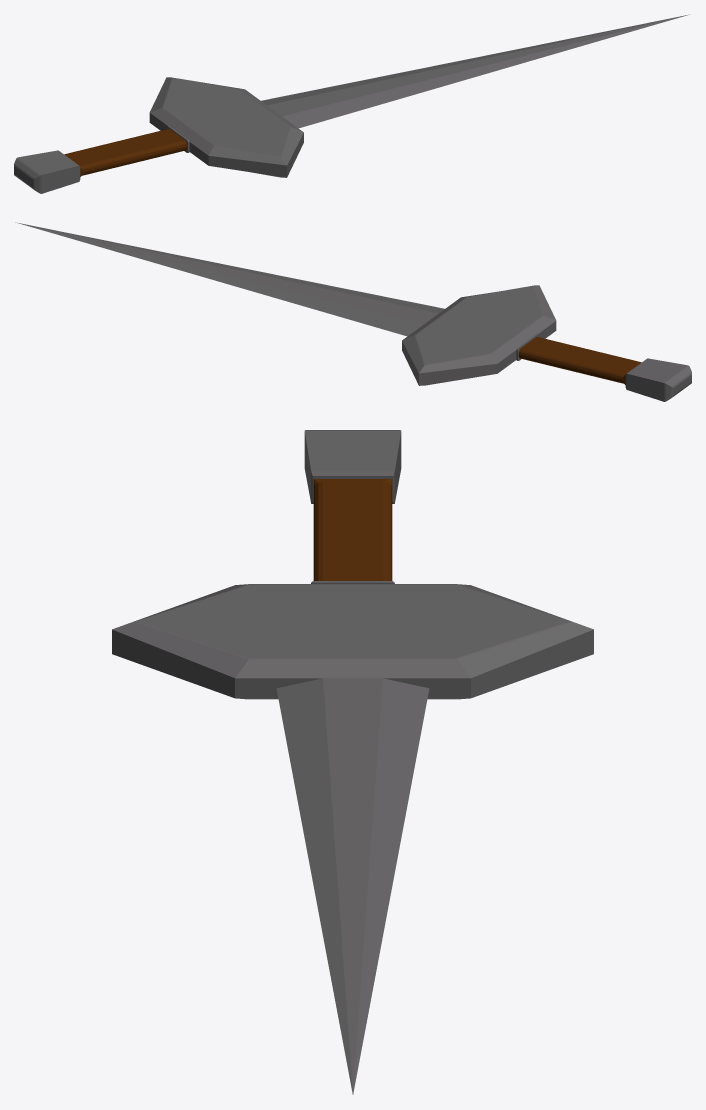
File: Knife.fbx
3 views of the same model, one above another, from view 1: azimuth 30°, elevation 25°; view 2: azimuth 150°, elevation 25°; view 3: azimuth 270°, elevation 25° (orthographic). The views are drawn at different scales.
Parts seen in each view (by area): view 1: Plane; view 2: Plane; view 3: Plane.
Boxes of the visible parts, bbox=[...] form: Plane: bbox=[14, 14, 690, 193]; Plane: bbox=[15, 222, 691, 401]; Plane: bbox=[112, 430, 593, 1094].
Size of the model in its own units: 1173 by 34.19 by 366.
